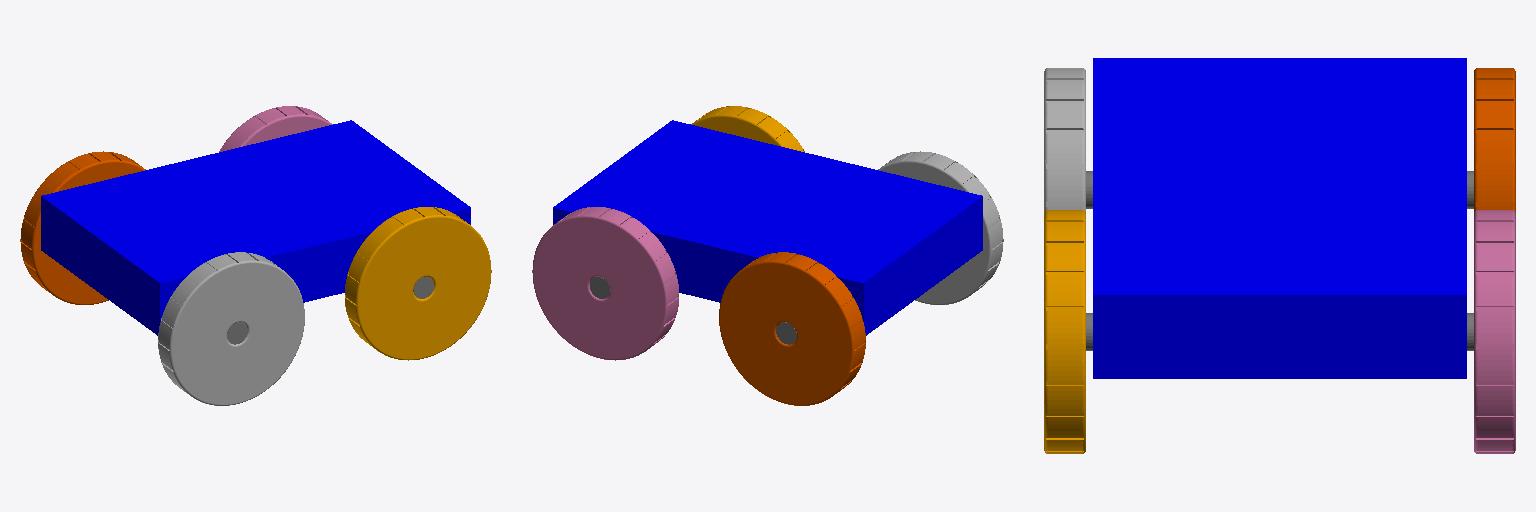
The robot description file, URDF, robot "farad_amr":
<?xml version="1.0"?>
<robot name="farad_amr">

<!-- Base link (chassis) -->
<link name="base_link">
<visual>
<geometry>
<box size="0.6 0.4 0.1"/>
</geometry>
<material name="blue">
<color rgba="0 0 1 1"/>
</material>
</visual>
<collision>
<geometry>
<box size="0.6 0.4 0.1"/>
</geometry>
</collision>
<inertial>
<mass value="10.0"/>
<inertia ixx="0.1" ixy="0.0" ixz="0.0" iyy="0.1" iyz="0.0" izz="0.1"/>
</inertial>
</link>




<!-- Left front shaft -->
<link name="left_front_shaft">
<visual>
<geometry>
<cylinder radius="0.02" length="0.10"/>
</geometry>
<origin xyz="0 0 0" rpy="1.5708 0 0"/>
<material name="gray">
<color rgba="0.5 0.5 0.5 1"/>
</material>
</visual>
<collision>
<geometry>
<cylinder radius="0.02" length="0.10"/>
</geometry>
<origin xyz="0 0 0" rpy="1.5708 0 0"/>
</collision>
<inertial>
<mass value="0.2"/>
<inertia ixx="0.01" ixy="0.0" ixz="0.0" iyy="0.01" iyz="0.0" izz="0.01"/>
</inertial>
</link>

<!-- Left rear shaft -->
<link name="left_rear_shaft">
<visual>
<geometry>
<cylinder radius="0.02" length="0.10"/>
</geometry>
<origin xyz="0 0 0" rpy="1.5708 0 0"/>
<material name="gray">
<color rgba="0.5 0.5 0.5 1"/>
</material>
</visual>
<collision>
<geometry>
<cylinder radius="0.02" length="0.10"/>
</geometry>
<origin xyz="0 0 0" rpy="1.5708 0 0"/>
</collision>
<inertial>
<mass value="0.2"/>
<inertia ixx="0.01" ixy="0.0" ixz="0.0" iyy="0.01" iyz="0.0" izz="0.01"/>
</inertial>
</link>

<!-- Right front shaft -->
<link name="right_front_shaft">
<visual>
<geometry>
<cylinder radius="0.02" length="0.10"/>
</geometry>
<origin xyz="0 0 0" rpy="1.5708 0 0"/>
<material name="gray">
<color rgba="0.5 0.5 0.5 1"/>
</material>
</visual>
<collision>
<geometry>
<cylinder radius="0.02" length="0.10"/>
</geometry>
<origin xyz="0 0 0" rpy="1.5708 0 0"/>
</collision>
<inertial>
<mass value="0.2"/>
<inertia ixx="0.01" ixy="0.0" ixz="0.0" iyy="0.01" iyz="0.0" izz="0.01"/>
</inertial>
</link>

<!-- Right rear shaft -->
<link name="right_rear_shaft">
<visual>
<geometry>
<cylinder radius="0.02" length="0.10"/>
</geometry>
<origin xyz="0 0 0" rpy="1.5708 0 0"/>
<material name="gray">
<color rgba="0.5 0.5 0.5 1"/>
</material>
</visual>
<collision>
<geometry>
<cylinder radius="0.02" length="0.10"/>
</geometry>
<origin xyz="0 0 0" rpy="1.5708 0 0"/>
</collision>
<inertial>
<mass value="0.2"/>
<inertia ixx="0.01" ixy="0.0" ixz="0.0" iyy="0.01" iyz="0.0" izz="0.01"/>
</inertial>
</link>



<!-- ================= TIRES (MESH) ================= -->

<!-- Left front tire (aligned with shaft, at +Y end) -->
<link name="left_front_tire">
	<inertial>
		<origin xyz="0 0 0"/>
		<mass value="1.0"/>
		<inertia ixx="0.02" iyy="0.02" izz="0.02" ixy="0" ixz="0" iyz="0"/>
	</inertial>
	<visual>
		<origin xyz="0 0.03 0" rpy="1.5708 0 0"/>
		<geometry>
			<mesh filename="tire_9.stl" scale="0.001 0.001 0.001"/>
		</geometry>
	</visual>
	<collision>
		<origin xyz="0 0.03 0" rpy="1.5708 0 0"/>
		<geometry>
			<mesh filename="tire_9.stl" scale="0.001 0.001 0.001"/>
		</geometry>
	</collision>
</link>

<!-- Left rear tire (aligned with shaft, at +Y end) -->
<link name="left_rear_tire">
	<inertial>
		<origin xyz="0 0 0"/>
		<mass value="1.0"/>
		<inertia ixx="0.02" iyy="0.02" izz="0.02" ixy="0" ixz="0" iyz="0"/>
	</inertial>
	<visual>
		<origin xyz="0 0.03 0" rpy="1.5708 0 0"/>
		<geometry>
			<mesh filename="tire_9.stl" scale="0.001 0.001 0.001"/>
		</geometry>
	</visual>
	<collision>
		<origin xyz="0 0.03 0" rpy="1.5708 0 0"/>
		<geometry>
			<mesh filename="tire_9.stl" scale="0.001 0.001 0.001"/>
		</geometry>
	</collision>
</link>

<!-- Right front tire (aligned with shaft, at +Y end) -->
<link name="right_front_tire">
	<inertial>
		<origin xyz="0 0 0"/>
		<mass value="1.0"/>
		<inertia ixx="0.02" iyy="0.02" izz="0.02" ixy="0" ixz="0" iyz="0"/>
	</inertial>
	<visual>
		<origin xyz="0 -0.03 0" rpy="1.5708 0 0"/>
		<geometry>
			<mesh filename="tire_9.stl" scale="0.001 0.001 0.001"/>
		</geometry>
	</visual>
	<collision>
		<origin xyz="0 -0.03 0" rpy="1.5708 0 0"/>
		<geometry>
			<mesh filename="tire_9.stl" scale="0.001 0.001 0.001"/>
		</geometry>
	</collision>
</link>

<!-- Right rear tire (aligned with shaft, at +Y end) -->
<link name="right_rear_tire">
	<inertial>
		<origin xyz="0 0 0"/>
		<mass value="1.0"/>
		<inertia ixx="0.02" iyy="0.02" izz="0.02" ixy="0" ixz="0" iyz="0"/>
	</inertial>
	<visual>
		<origin xyz="0 -0.03 0" rpy="1.5708 0 0"/>
		<geometry>
			<mesh filename="tire_9.stl" scale="0.001 0.001 0.001"/>
		</geometry>
	</visual>
	<collision>
		<origin xyz="0 -0.03 0" rpy="1.5708 0 0"/>
		<geometry>
			<mesh filename="tire_9.stl" scale="0.001 0.001 0.001"/>
		</geometry>
	</collision>
</link>



<!-- ================= SHAFTS AND TIRES ASSEMBLY ================= -->

<!-- Left front shaft (front left corner) -->
<joint name="base_link_to_left_front_shaft" type="fixed">
	<parent link="base_link"/>
	<child link="left_front_shaft"/>
	<origin xyz="-0.18 0.2 -0.05" rpy="0 0 0"/>
</joint>

<!-- Attach left front tire to shaft with continuous joint (rotates freely) -->
<joint name="left_front_shaft_to_tire" type="continuous">
	<parent link="left_front_shaft"/>
	<child link="left_front_tire"/>
	<!-- Tire is placed at end of shaft, so no offset needed -->
	<origin xyz="0 0 0" rpy="0 0 0"/>
	<axis xyz="0 1 0"/>
</joint>

<!-- Left rear shaft (rear left corner) -->
<joint name="base_link_to_left_rear_shaft" type="fixed">
	<parent link="base_link"/>
	<child link="left_rear_shaft"/>
	<origin xyz="0.18 0.2 -0.05" rpy="0 0 0"/>
</joint>

<!-- Attach left rear tire to shaft with continuous joint -->
<joint name="left_rear_shaft_to_tire" type="continuous">
	<parent link="left_rear_shaft"/>
	<child link="left_rear_tire"/>
	<origin xyz="0 0 0" rpy="0 0 0"/>
	<axis xyz="0 1 0"/>
</joint>

<!-- Right front shaft (front right corner) -->
<joint name="base_link_to_right_front_shaft" type="fixed">
	<parent link="base_link"/>
	<child link="right_front_shaft"/>
	<origin xyz="-0.18 -0.2 -0.05" rpy="0 0 0"/>
</joint>

<!-- Attach right front tire to shaft with continuous joint -->
<joint name="right_front_shaft_to_tire" type="continuous">
	<parent link="right_front_shaft"/>
	<child link="right_front_tire"/>
	<origin xyz="0 0 0" rpy="0 0 0"/>
	<axis xyz="0 1 0"/>
</joint>

<!-- Right rear shaft (rear right corner) -->
<joint name="base_link_to_right_rear_shaft" type="fixed">
	<parent link="base_link"/>
	<child link="right_rear_shaft"/>
	<origin xyz="0.18 -0.2 -0.05" rpy="0 0 0"/>
</joint>

<!-- Attach right rear tire to shaft with continuous joint -->
<joint name="right_rear_shaft_to_tire" type="continuous">
	<parent link="right_rear_shaft"/>
	<child link="right_rear_tire"/>
	<origin xyz="0 0 0" rpy="0 0 0"/>
	<axis xyz="0 1 0"/>
</joint>

</robot>

--- What the picture shows (computed from the rendered views, not written in the file) ---
Views: 3 orthographic renders of the robot side by side, from view 1: azimuth 30°, elevation 25°; view 2: azimuth 150°, elevation 25°; view 3: azimuth 270°, elevation 25°.
Robot: farad_amr — 9 links, 8 joints (4 continuous, 4 fixed); root link base_link; default pose: all joints at 0.
Visible links, largest first — view 1: base_link, right_front_tire, right_rear_tire, left_front_tire, left_rear_tire; view 2: base_link, left_front_tire, left_rear_tire, right_front_tire, right_rear_tire; view 3: base_link, left_rear_tire, right_rear_tire, left_front_tire, right_front_tire.
Link boxes in pixels (x1,y1,x2,y2): base_link: (41, 120, 470, 335); right_front_tire: (158, 252, 304, 405); right_rear_tire: (345, 207, 491, 360); left_front_tire: (20, 151, 145, 304); left_rear_tire: (219, 106, 332, 151); base_link: (553, 120, 982, 335); left_front_tire: (719, 252, 865, 405); left_rear_tire: (532, 207, 678, 360); right_front_tire: (878, 151, 1003, 304); right_rear_tire: (691, 106, 804, 151); base_link: (1093, 58, 1466, 378); left_rear_tire: (1474, 210, 1515, 453); right_rear_tire: (1044, 210, 1085, 453); left_front_tire: (1474, 68, 1515, 212); right_front_tire: (1044, 68, 1085, 212).
Size in the robot's own frame: 0.6213 by 0.5043 by 0.2613 metres.
Meshes: 1 distinct files referenced, 4 mesh visuals loaded (1 binary STL).
